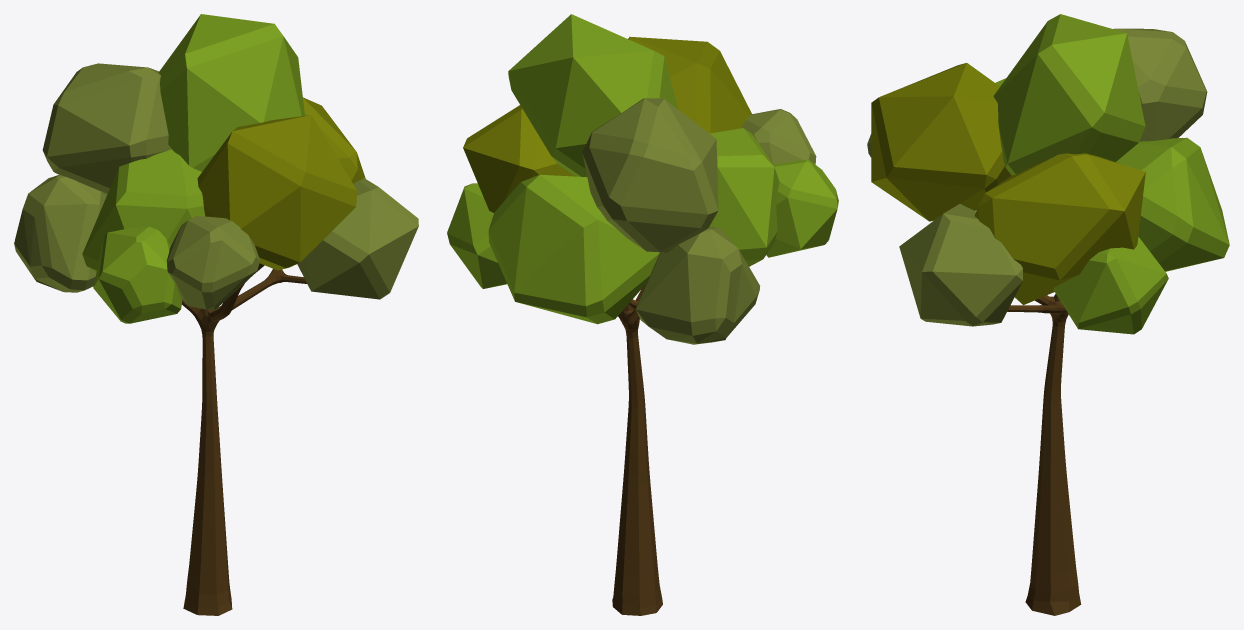
File: tree-2.glb
The picture shows the model from 3 angles, left to right: view 1: azimuth 30°, elevation 25°; view 2: azimuth 150°, elevation 25°; view 3: azimuth 270°, elevation 25°; orthographic projection. The views are drawn at different scales.
Visible parts, largest first — view 1: Tree 2; view 2: Tree 2; view 3: Tree 2.
Part boxes in pixels (box(x1,y1,x2,y2)): Tree 2: box(14, 14, 418, 615); Tree 2: box(447, 14, 838, 615); Tree 2: box(867, 14, 1229, 615).
Bounding box in the file's own units: 11.76 × 20.41 × 11.32.
